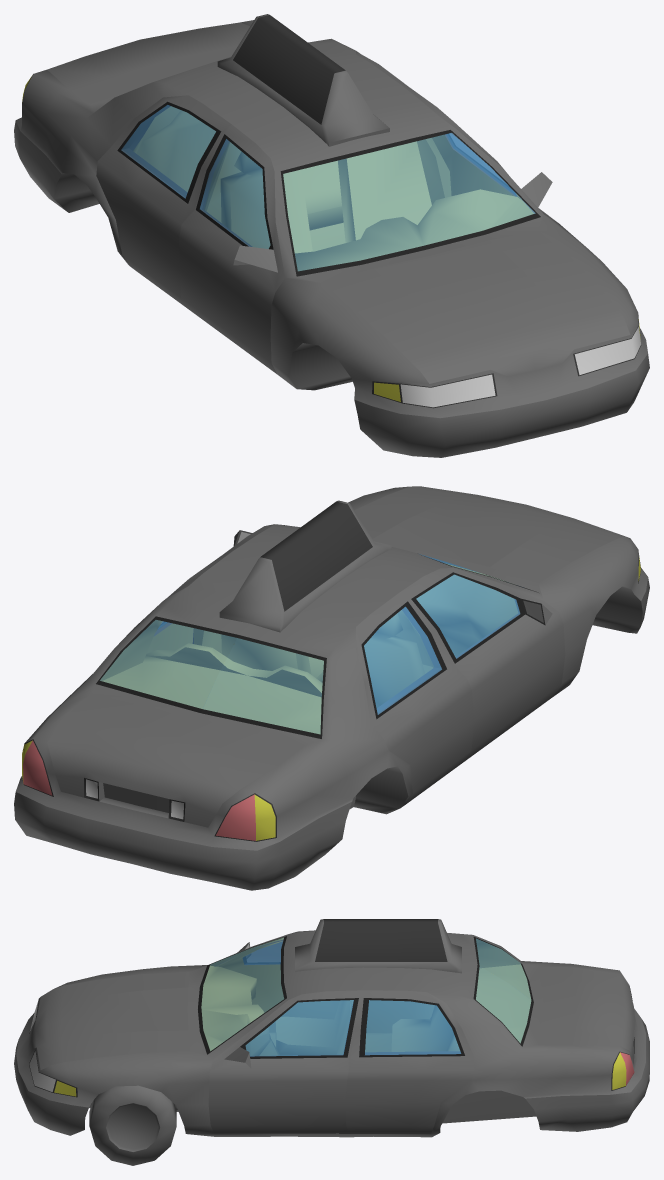
Rendered from Taxi.fbx.
The picture shows the model from 3 angles, top to bottom: view 1: azimuth 30°, elevation 25°; view 2: azimuth 150°, elevation 25°; view 3: azimuth 270°, elevation 25°; orthographic projection. The views are drawn at different scales.
Parts seen in each view (by area): view 1: Taxi_Body, Taxi_Hood, Taxi_DoorFR, Taxi_DoorRR, Taxi_Sign, Taxi_Trunk, Taxi_WindowRR, Taxi_WindowFR, Taxi_DoorFL, Taxi_DoorRL, Taxi_WindowFL; view 2: Taxi_Body, Taxi_Trunk, Taxi_Hood, Taxi_DoorFR, Taxi_DoorRR, Taxi_Sign, Taxi_WindowRR, Taxi_WindowFR, Taxi_DoorRL, Taxi_DoorFL; view 3: Taxi_Body, Taxi_DoorFL, Taxi_Hood, Taxi_DoorRL, Taxi_Sign, Taxi_Trunk, Taxi_Wheel, Taxi_WindowFL, Taxi_WindowRL, Taxi_DoorFR, Taxi_DoorRR, Taxi_WindowFR.
Part boxes in pixels (x1,y1,x2,y2): Taxi_Body: [14, 20, 649, 457]; Taxi_Hood: [323, 231, 630, 383]; Taxi_DoorFR: [179, 124, 284, 373]; Taxi_DoorRR: [96, 95, 231, 308]; Taxi_Sign: [217, 14, 389, 146]; Taxi_Trunk: [47, 22, 249, 104]; Taxi_WindowRR: [121, 105, 215, 198]; Taxi_WindowFR: [200, 139, 270, 248]; Taxi_DoorFL: [400, 84, 557, 222]; Taxi_DoorRL: [356, 51, 444, 204]; Taxi_WindowFL: [446, 133, 516, 195]; Taxi_Body: [14, 486, 649, 890]; Taxi_Trunk: [47, 694, 302, 827]; Taxi_Hood: [354, 486, 624, 583]; Taxi_DoorFR: [399, 568, 565, 764]; Taxi_DoorRR: [355, 593, 474, 804]; Taxi_Sign: [219, 500, 391, 632]; Taxi_WindowRR: [364, 606, 441, 714]; Taxi_WindowFR: [416, 574, 520, 658]; Taxi_DoorRL: [147, 552, 231, 653]; Taxi_DoorFL: [192, 524, 273, 653]; Taxi_Body: [14, 931, 649, 1137]; Taxi_DoorFL: [208, 990, 362, 1133]; Taxi_Hood: [31, 972, 189, 1069]; Taxi_DoorRL: [345, 990, 474, 1133]; Taxi_Sign: [295, 919, 461, 973]; Taxi_Trunk: [540, 967, 634, 1064]; Taxi_Wheel: [89, 1085, 176, 1165]; Taxi_WindowFL: [245, 1000, 353, 1056]; Taxi_WindowRL: [365, 1000, 461, 1055]; Taxi_DoorFR: [214, 930, 339, 1032]; Taxi_DoorRR: [366, 1000, 434, 1032]; Taxi_WindowFR: [243, 941, 282, 964].
Size of the model in its own units: 2.23 by 1.73 by 5.15.
